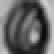correct: (3, 1, 50, 54)
